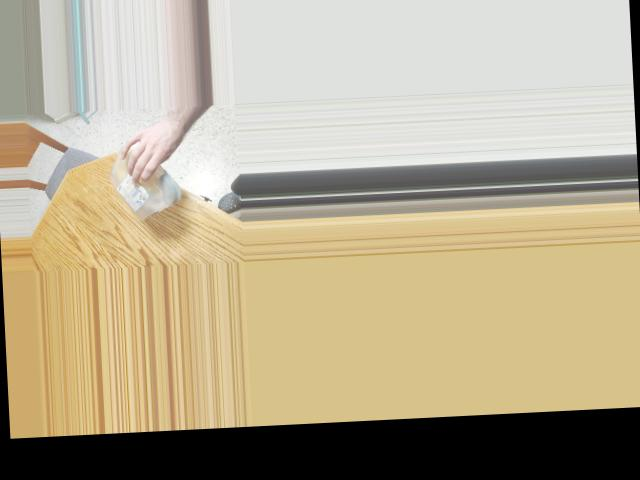cheese: (103, 136, 173, 223)
